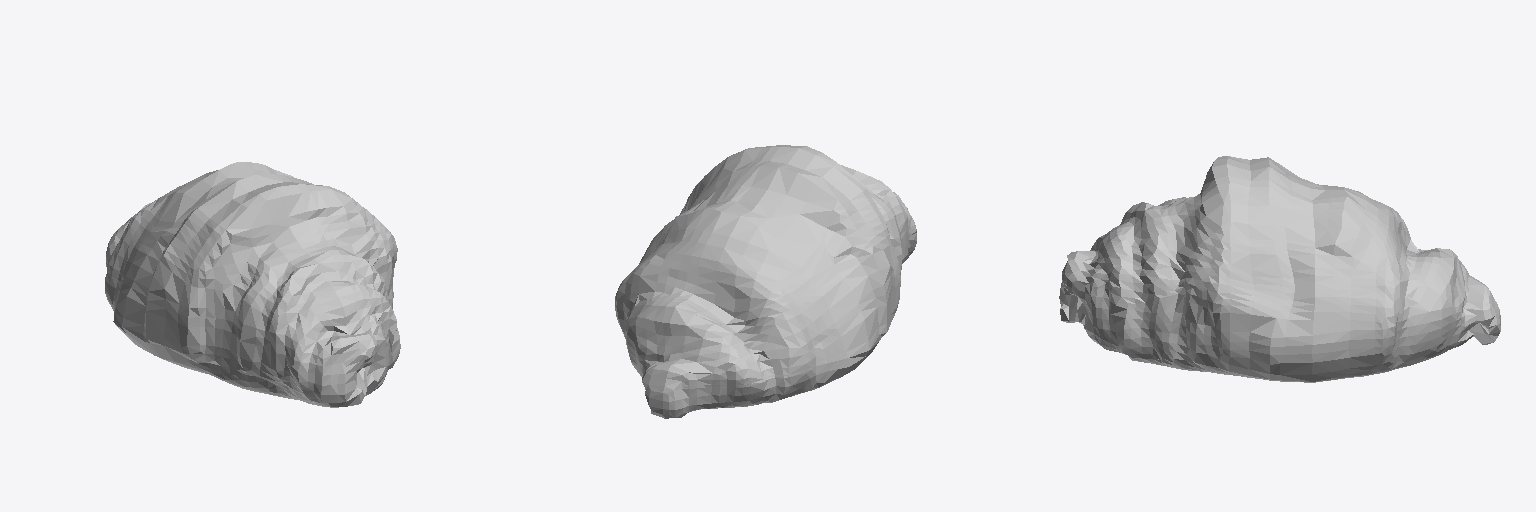
Rendered from croissant_01.obj.
3 renders of one model, left to right at view 1: azimuth 30°, elevation 25°; view 2: azimuth 150°, elevation 25°; view 3: azimuth 270°, elevation 25°, orthographic.
Parts seen in each view (by area): view 1: croissant_01_croissant_01_Plane.001; view 2: croissant_01_croissant_01_Plane.001; view 3: croissant_01_croissant_01_Plane.001.
Boxes of the visible parts, <box> form: croissant_01_croissant_01_Plane.001: <box>105,162,400,407</box>; croissant_01_croissant_01_Plane.001: <box>615,145,916,418</box>; croissant_01_croissant_01_Plane.001: <box>1059,156,1500,382</box>.
Bounding box in the file's own units: 0.1077 × 0.0782 × 0.1745.